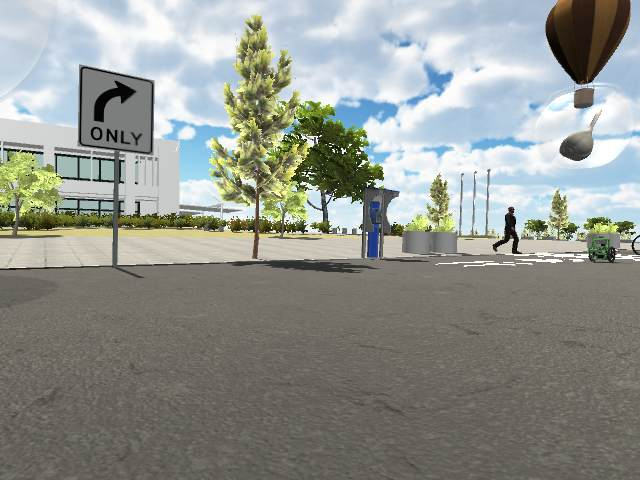arrow_right: (92, 79, 141, 122)
